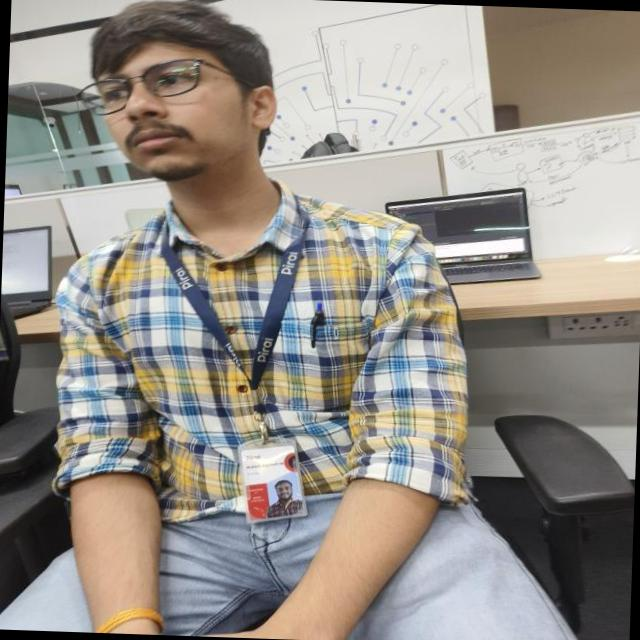id_card: (164, 218, 333, 526)
